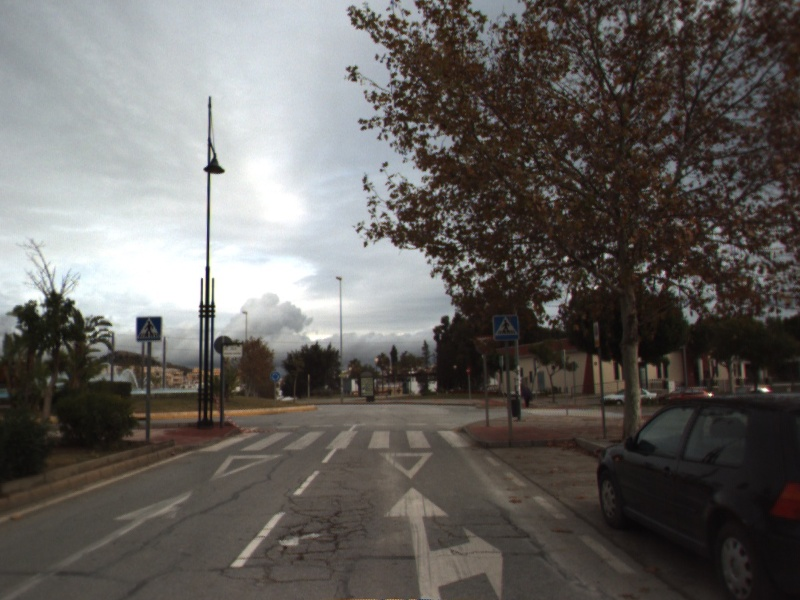STRAIGHT: (1, 486, 196, 600)
STRAIGHT_RIGHT: (381, 485, 505, 600)
